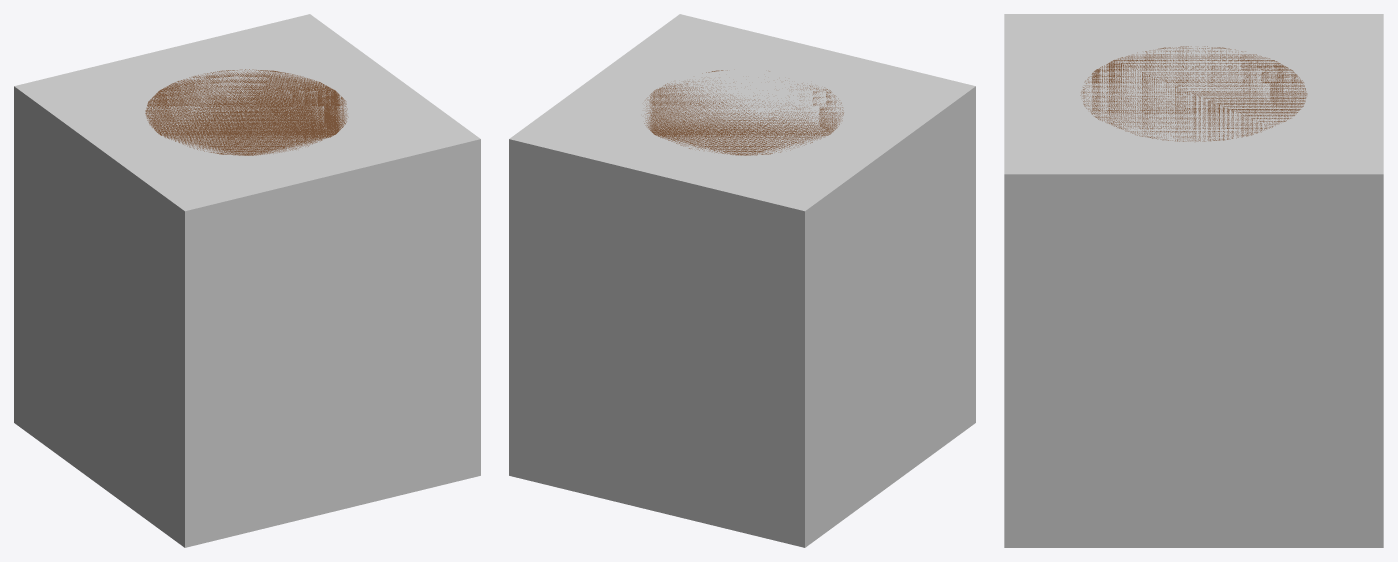
The model's file is chandelier_boutique.glb.
The picture shows the model from 3 angles, left to right: view 1: azimuth 30°, elevation 25°; view 2: azimuth 150°, elevation 25°; view 3: azimuth 270°, elevation 25°; orthographic projection. The views are drawn at different scales.
Visible parts, largest first — view 1: COL_chandelier, MESH_CeilingCanopy; view 2: COL_chandelier, MESH_CeilingCanopy; view 3: COL_chandelier, MESH_CeilingCanopy.
Part boxes in pixels (<box>): COL_chandelier: <box>14,14,480,547</box>; MESH_CeilingCanopy: <box>145,69,348,155</box>; COL_chandelier: <box>509,14,975,547</box>; MESH_CeilingCanopy: <box>644,70,843,155</box>; COL_chandelier: <box>1004,14,1383,547</box>; MESH_CeilingCanopy: <box>1080,46,1307,141</box>.
Bounding box in the file's own units: 1.15 × 1.25 × 1.15.
